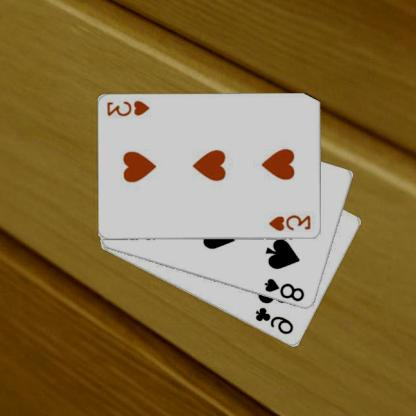3H: (268, 212, 314, 233), (107, 98, 152, 118)
8S: (263, 276, 308, 303)
9C: (254, 304, 297, 336)
